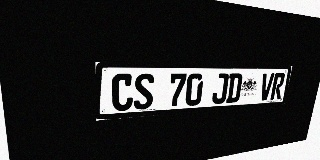0: (185, 73, 204, 106)
7: (167, 73, 187, 108)
C: (112, 74, 134, 112)
D: (226, 73, 243, 103)
J: (211, 73, 229, 104)
R: (270, 73, 286, 100)
S: (133, 73, 155, 110)
V: (259, 73, 275, 101)
